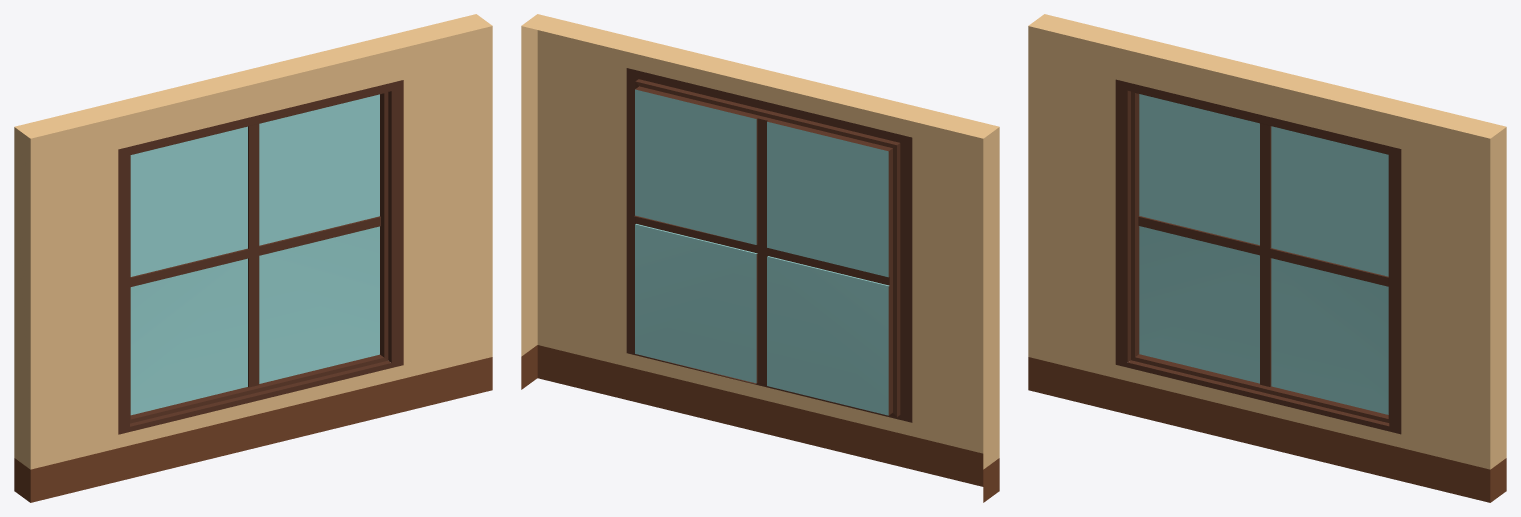
Rendered from window.fbx.
3 renders of one model, left to right at view 1: azimuth 30°, elevation 25°; view 2: azimuth 150°, elevation 25°; view 3: azimuth 330°, elevation 25°, orthographic.
Parts seen in each view (by area): view 1: window_library; view 2: window_library; view 3: window_library.
Boxes of the visible parts, box(x1,y1,x2,y2) form: window_library: box(14, 14, 492, 502); window_library: box(521, 14, 999, 502); window_library: box(1028, 14, 1506, 502).
Size of the model in its own units: 816 by 614 by 50.
